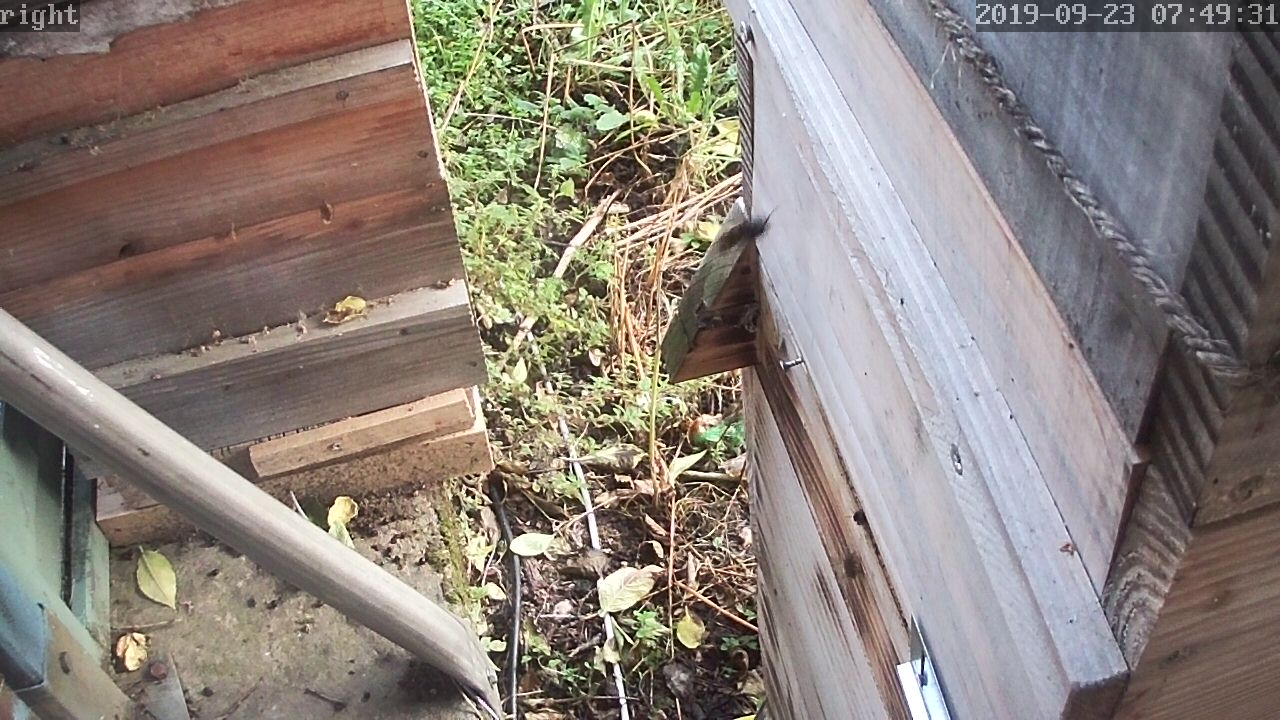bee: (826, 535, 871, 575)
